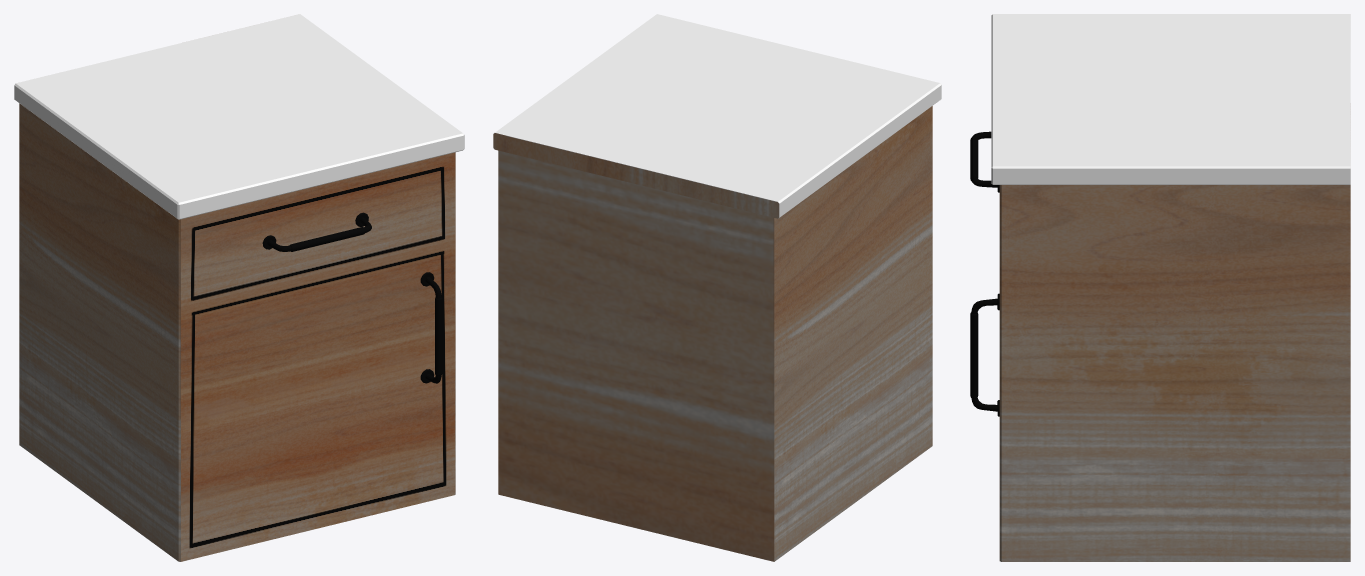
The model's file is Kchn_Cabinet_Short.fbx.
3 renders of one model, left to right at view 1: azimuth 30°, elevation 25°; view 2: azimuth 150°, elevation 25°; view 3: azimuth 270°, elevation 25°, orthographic. The views are drawn at different scales.
Visible parts, largest first — view 1: Cabinet_Type1; view 2: Cabinet_Type1; view 3: Cabinet_Type1.
Boxes of the visible parts, x1,y1,x2,y2 form: Cabinet_Type1: [14, 14, 464, 561]; Cabinet_Type1: [493, 14, 941, 561]; Cabinet_Type1: [970, 14, 1350, 561].
Bounding box in the file's own units: 116 × 140 × 121.
